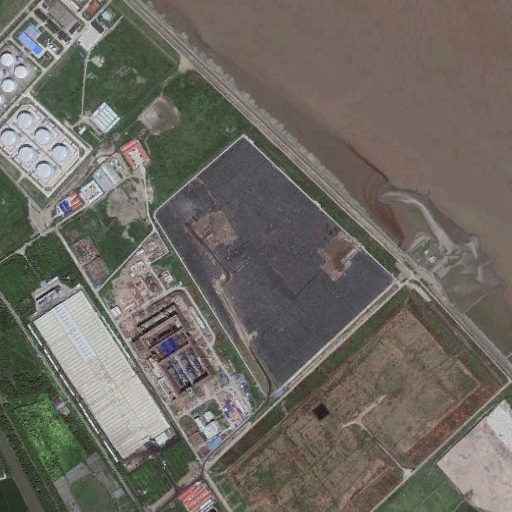lf: (151, 132, 393, 400)
